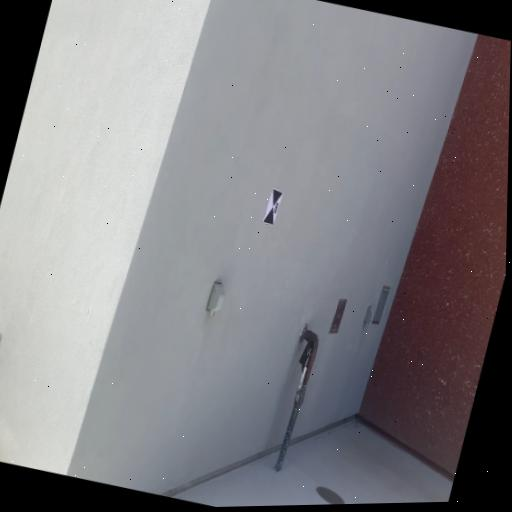target8: (262, 188, 283, 226)
